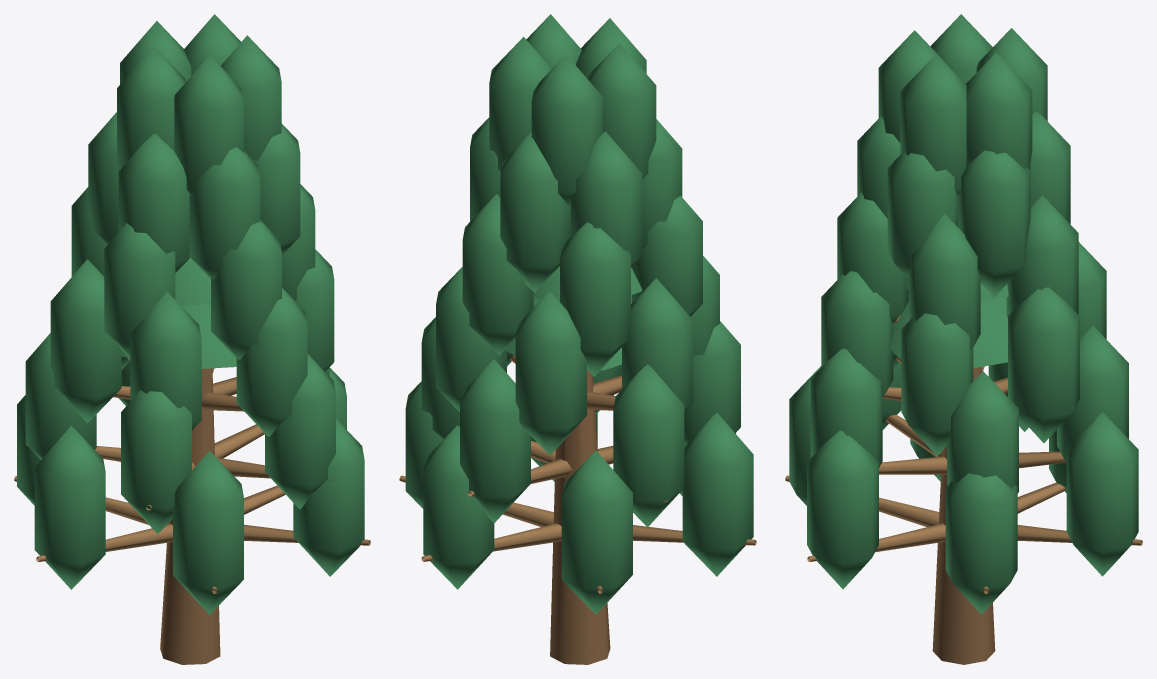
The model's file is tree_conifer_03.glb.
3 renders of one model, left to right at view 1: azimuth 30°, elevation 25°; view 2: azimuth 150°, elevation 25°; view 3: azimuth 270°, elevation 25°, orthographic.
Bounding box in the file's own units: 0.6768 × 1.2 × 0.6286.
